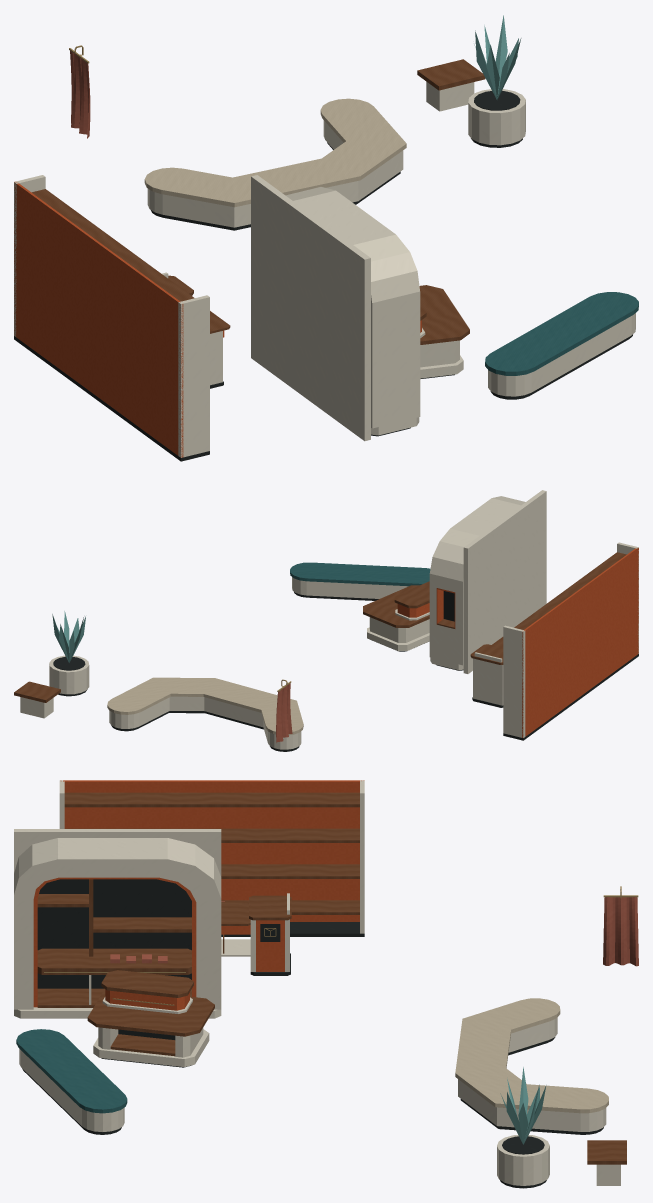
Rendered from SHOP_D09_P100_A236__fitout.glb.
3 views of the same model, one above another, from view 1: azimuth 30°, elevation 25°; view 2: azimuth 150°, elevation 25°; view 3: azimuth 270°, elevation 25° (orthographic). The views are drawn at different scales.
Parts seen in each view (by area): view 1: SHOP_D09_P100_A236__fitout__ivory_enamel, SHOP_D09_P100_A236__fitout__retail_terracotta_enamel, SHOP_D09_P100_A236__fitout__oatmeal_weave, SHOP_D09_P100_A236__fitout__warm_walnut, SHOP_D09_P100_A236__fitout__teal_weave, SHOP_D09_P100_A236__fitout__dark_rubber, SHOP_D09_P100_A236__fitout__quiet_teal, SHOP_D09_P100_A236__fitout__clay_weave; view 2: SHOP_D09_P100_A236__fitout__ivory_enamel, SHOP_D09_P100_A236__fitout__retail_terracotta_enamel, SHOP_D09_P100_A236__fitout__oatmeal_weave, SHOP_D09_P100_A236__fitout__warm_walnut, SHOP_D09_P100_A236__fitout__teal_weave, SHOP_D09_P100_A236__fitout__dark_rubber, SHOP_D09_P100_A236__fitout__quiet_teal, SHOP_D09_P100_A236__fitout__clay_weave; view 3: SHOP_D09_P100_A236__fitout__ivory_enamel, SHOP_D09_P100_A236__fitout__warm_walnut, SHOP_D09_P100_A236__fitout__retail_terracotta_enamel, SHOP_D09_P100_A236__fitout__dark_rubber, SHOP_D09_P100_A236__fitout__oatmeal_weave, SHOP_D09_P100_A236__fitout__teal_weave, SHOP_D09_P100_A236__fitout__clay_weave, SHOP_D09_P100_A236__fitout__quiet_teal.
Part boxes in pixels (<box>): SHOP_D09_P100_A236__fitout__ivory_enamel: <box>14,82,635,457</box>; SHOP_D09_P100_A236__fitout__retail_terracotta_enamel: <box>14,181,421,457</box>; SHOP_D09_P100_A236__fitout__oatmeal_weave: <box>144,98,406,207</box>; SHOP_D09_P100_A236__fitout__warm_walnut: <box>32,59,485,344</box>; SHOP_D09_P100_A236__fitout__teal_weave: <box>485,292,638,375</box>; SHOP_D09_P100_A236__fitout__dark_rubber: <box>14,90,632,461</box>; SHOP_D09_P100_A236__fitout__quiet_teal: <box>474,15,521,99</box>; SHOP_D09_P100_A236__fitout__clay_weave: <box>70,51,90,138</box>; SHOP_D09_P100_A236__fitout__ivory_enamel: <box>20,490,638,749</box>; SHOP_D09_P100_A236__fitout__retail_terracotta_enamel: <box>397,548,638,737</box>; SHOP_D09_P100_A236__fitout__oatmeal_weave: <box>107,677,303,735</box>; SHOP_D09_P100_A236__fitout__warm_walnut: <box>14,552,626,702</box>; SHOP_D09_P100_A236__fitout__teal_weave: <box>290,562,430,586</box>; SHOP_D09_P100_A236__fitout__dark_rubber: <box>53,591,638,751</box>; SHOP_D09_P100_A236__fitout__quiet_teal: <box>52,611,85,662</box>; SHOP_D09_P100_A236__fitout__clay_weave: <box>276,683,292,742</box>; SHOP_D09_P100_A236__fitout__ivory_enamel: <box>14,780,620,1185</box>; SHOP_D09_P100_A236__fitout__warm_walnut: <box>37,792,626,1164</box>; SHOP_D09_P100_A236__fitout__retail_terracotta_enamel: <box>33,780,364,1010</box>; SHOP_D09_P100_A236__fitout__dark_rubber: <box>22,879,603,1188</box>; SHOP_D09_P100_A236__fitout__oatmeal_weave: <box>455,998,608,1113</box>; SHOP_D09_P100_A236__fitout__teal_weave: <box>16,1029,127,1113</box>; SHOP_D09_P100_A236__fitout__clay_weave: <box>110,897,638,966</box>; SHOP_D09_P100_A236__fitout__quiet_teal: <box>500,1067,546,1144</box>.
Bounding box in the file's own units: 10.28 × 3 × 10.25.
9 materials, 8 textured.
